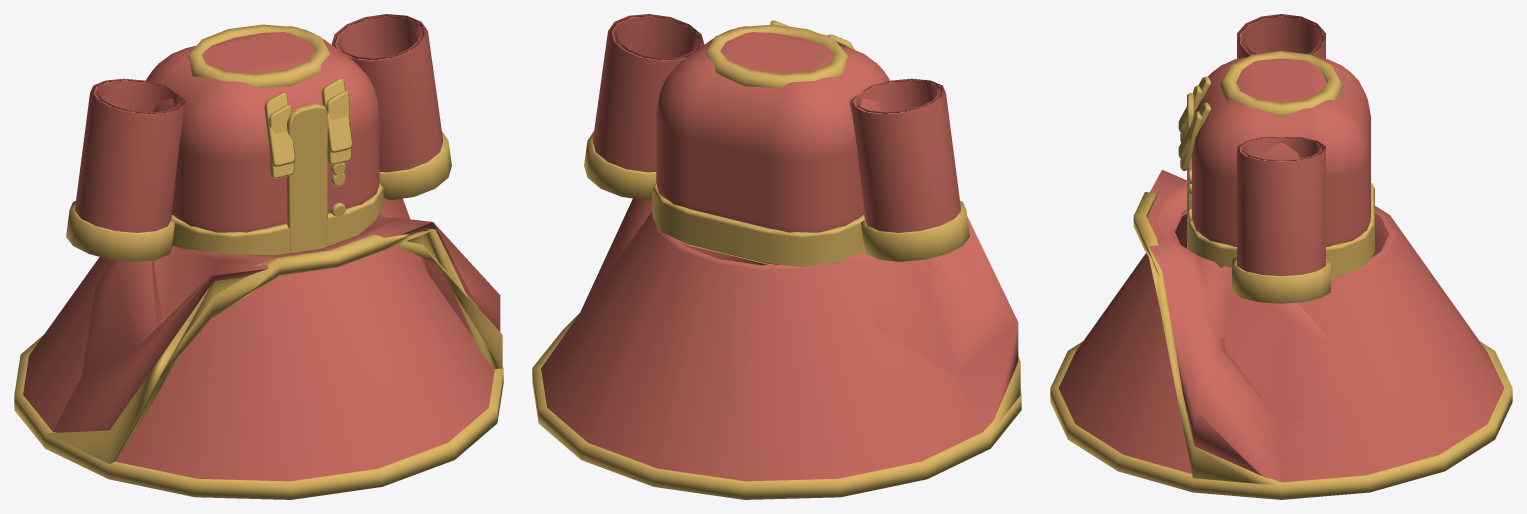
The model's file is attus_robe.glb.
The picture shows the model from 3 angles, left to right: view 1: azimuth 30°, elevation 25°; view 2: azimuth 150°, elevation 25°; view 3: azimuth 270°, elevation 25°; orthographic projection. The views are drawn at different scales.
Visible parts, largest first — view 1: attus_robe_Body, attus_robe_Body_sit, attus_robe_ArmL, attus_robe_ArmR; view 2: attus_robe_Body, attus_robe_Body_sit, attus_robe_ArmL, attus_robe_ArmR; view 3: attus_robe_Body, attus_robe_Body_sit, attus_robe_ArmR, attus_robe_ArmL.
Boxes of the visible parts, box(x1,y1,x2,y2) form: attus_robe_Body: box(14, 24, 503, 499); attus_robe_Body_sit: box(45, 53, 502, 463); attus_robe_ArmL: box(66, 78, 186, 261); attus_robe_ArmR: box(331, 14, 451, 200); attus_robe_Body: box(532, 24, 1021, 499); attus_robe_Body_sit: box(563, 20, 1020, 433); attus_robe_ArmL: box(849, 78, 969, 261); attus_robe_ArmR: box(584, 14, 704, 200); attus_robe_Body: box(1050, 51, 1512, 499); attus_robe_Body_sit: box(1133, 76, 1388, 485); attus_robe_ArmR: box(1232, 137, 1330, 303); attus_robe_ArmL: box(1237, 14, 1325, 58).
Size of the model in its own units: 0.748 by 0.6289 by 0.748.
